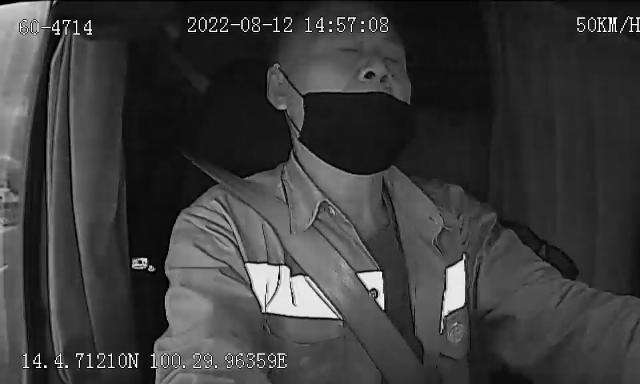Seatbelt: (201, 166, 427, 384)
